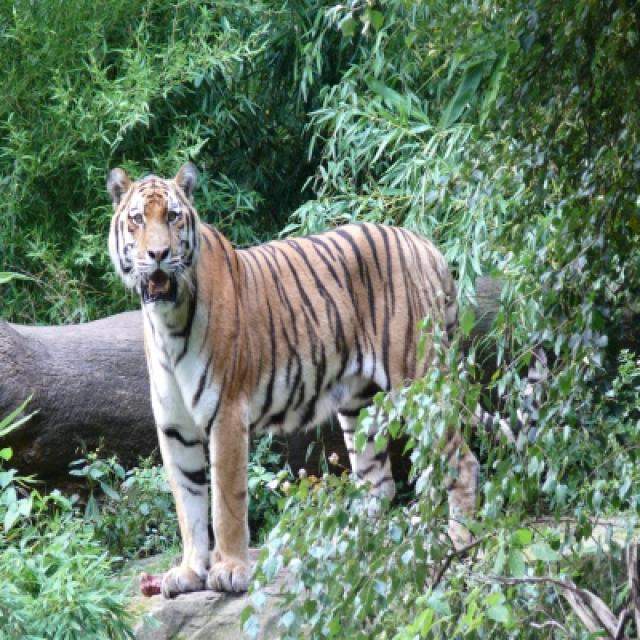Tiger: (108, 156, 458, 589)
